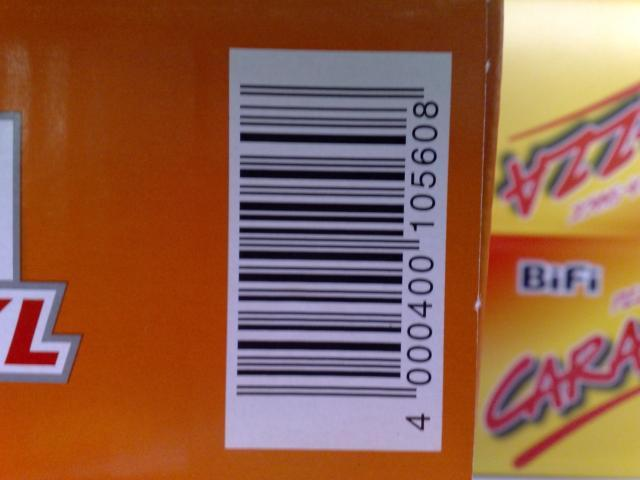Barcode: (225, 48, 452, 451)
